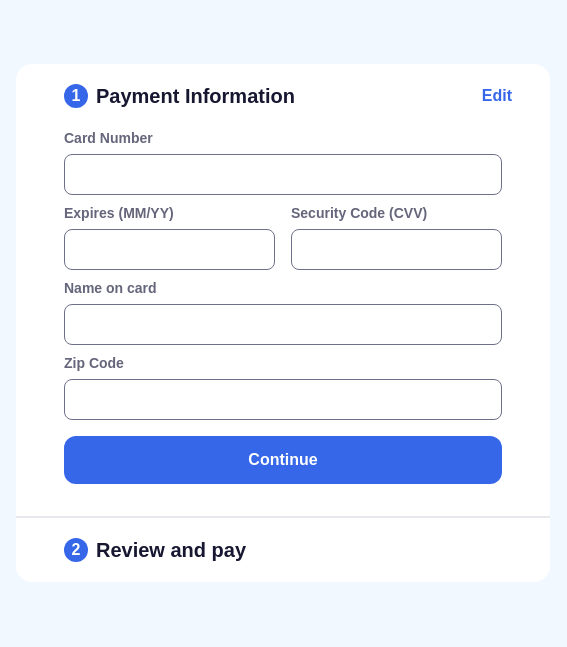
Test: PaymentForm › shows success if security code field is valid
This screenshot has width=567, height=647.
Type "212" into the field labelled "Security Code (CVV)" at (396, 250), box [291, 229, 502, 270]
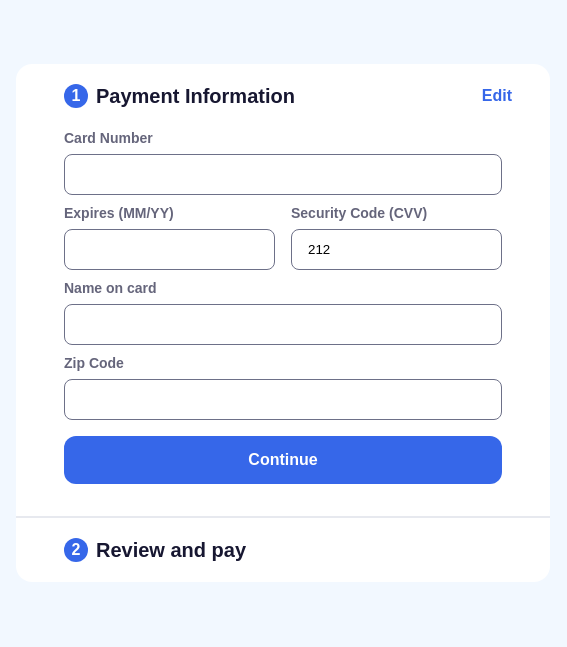
Click the button "Continue" at (283, 460), box [64, 436, 502, 484]
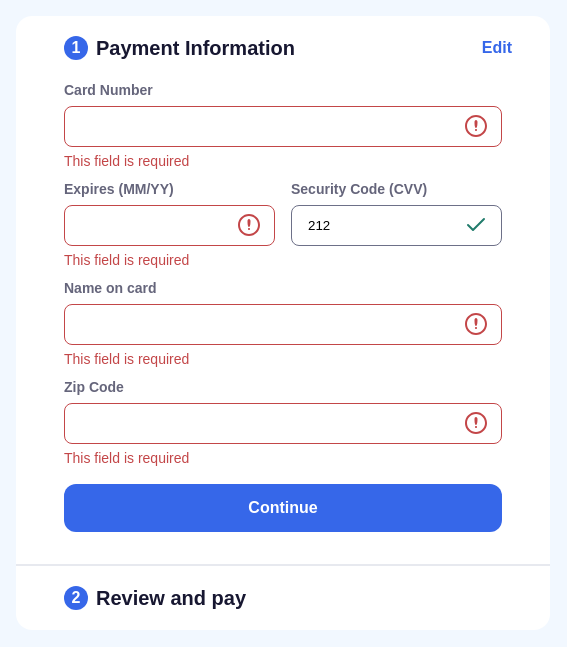
Now the icon with test id "success-icon" is shown, box [464, 213, 488, 244]
